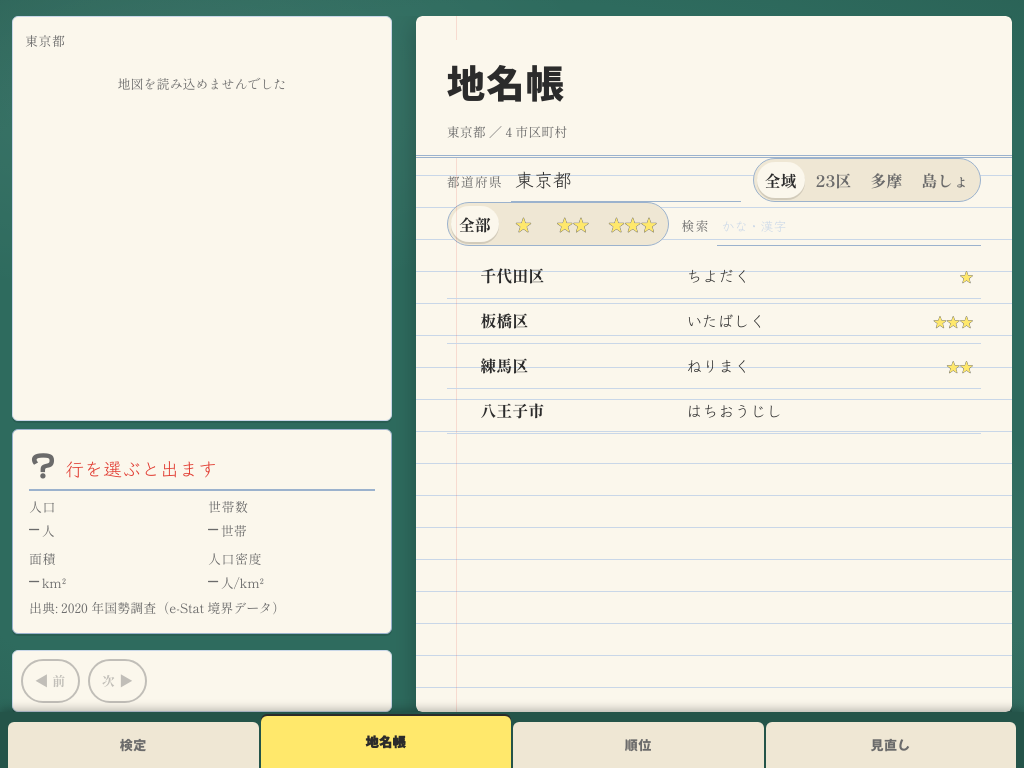
地名帳の難易度 ★ › ★ を選んでいる間は、問題バンクに無い市区町村（★ なし）が出ない
Click the button named "難易度: ★1" at (524, 224), box left=502, top=206, right=546, bottom=242
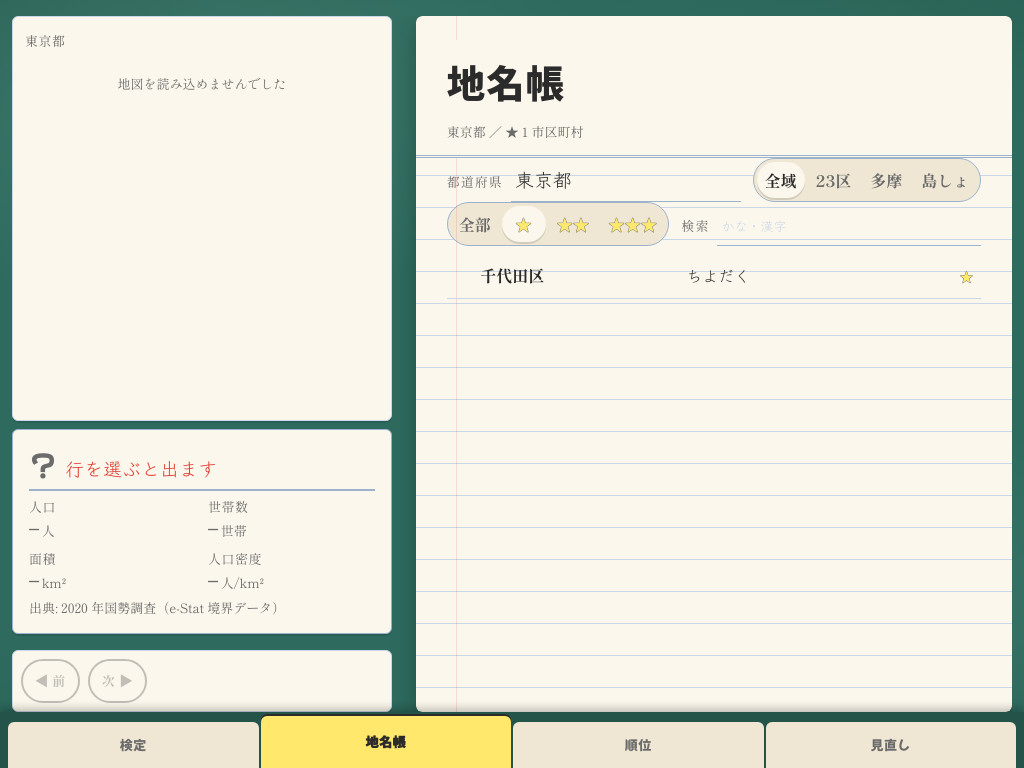
Click the button named "難易度: ★2" at (573, 224), box left=549, top=206, right=597, bottom=242
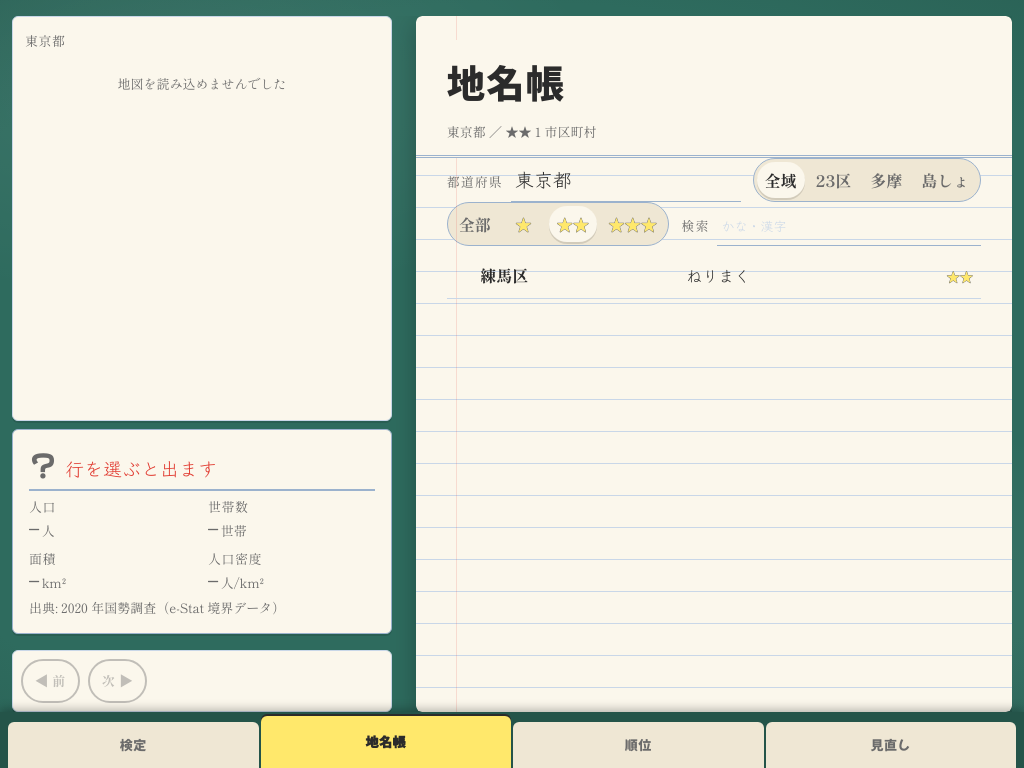
Click the button named "難易度: ★3" at (633, 224), box left=600, top=206, right=665, bottom=242
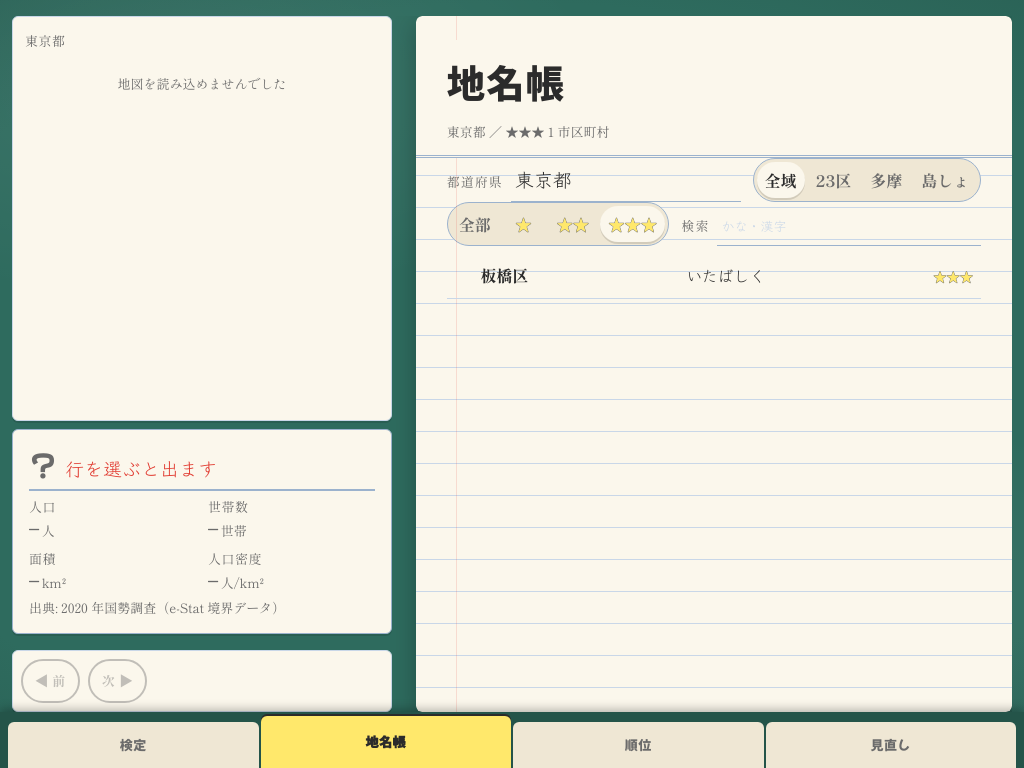
Click the button with aria-label "難易度: 全部" at (475, 224), box left=451, top=206, right=499, bottom=242
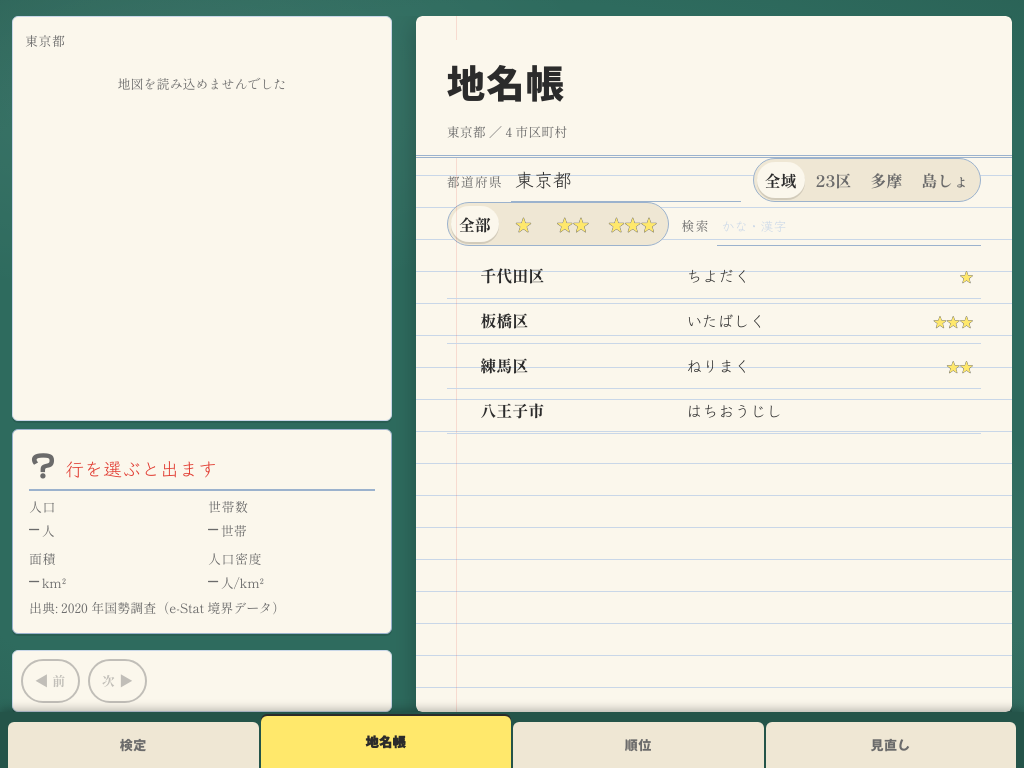
Now the text "八王子市" is shown, box left=480, top=398, right=544, bottom=422
